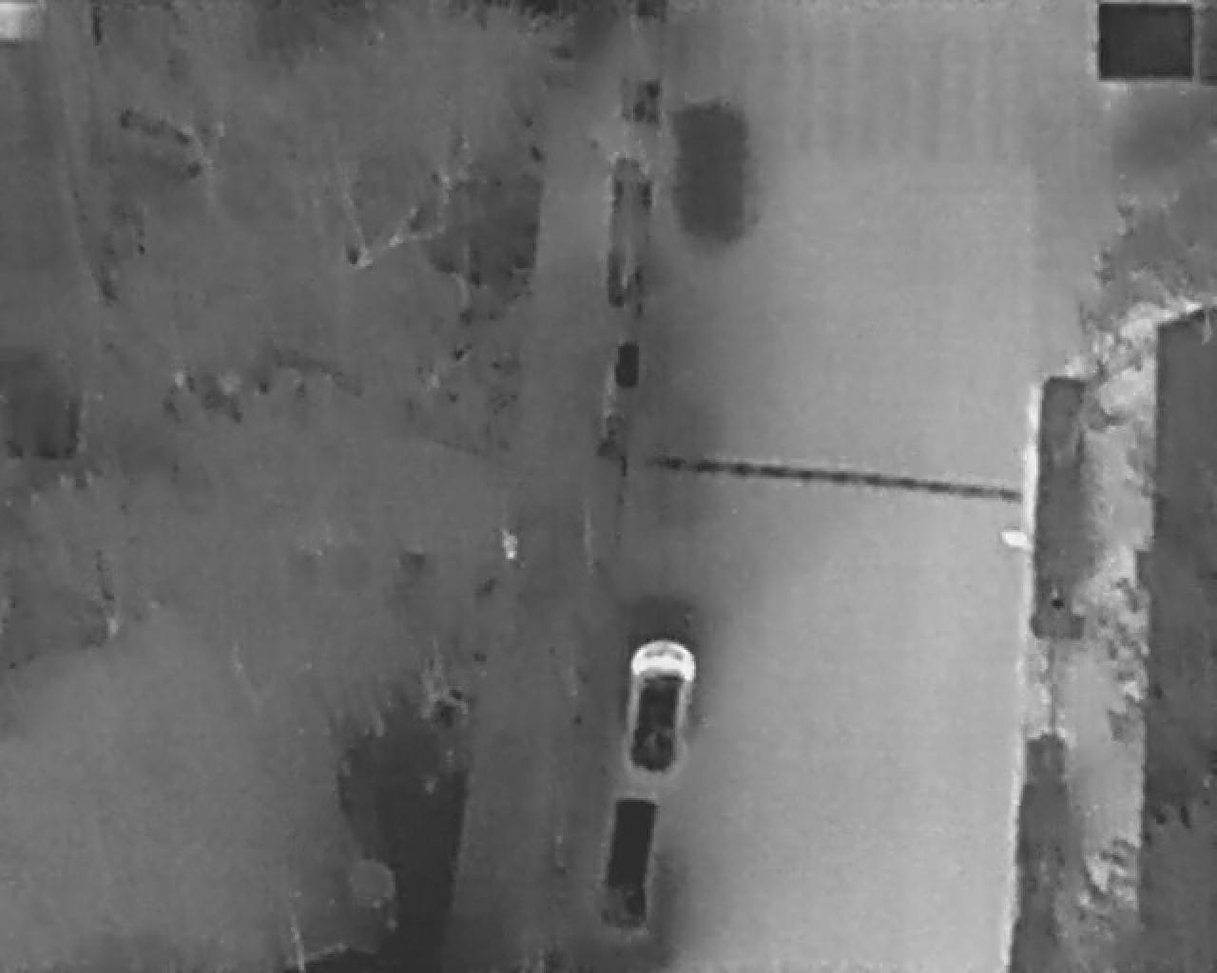person: (497, 527, 522, 562)
